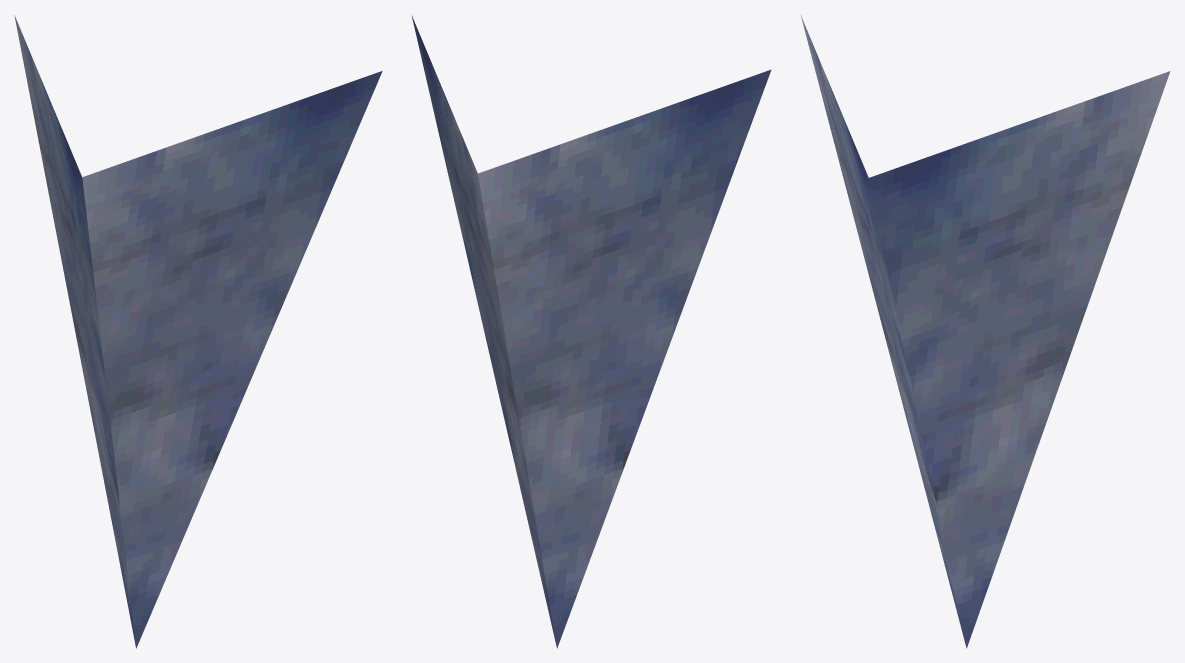
3 renders of one model, left to right at view 1: azimuth 30°, elevation 25°; view 2: azimuth 150°, elevation 25°; view 3: azimuth 270°, elevation 25°, orthographic. The views are drawn at different scales.
Parts seen in each view (by area): view 1: Object25; view 2: Object25; view 3: Object25.
Boxes of the visible parts, bbox=[...] form: Object25: bbox=[14, 15, 382, 648]; Object25: bbox=[411, 15, 771, 648]; Object25: bbox=[800, 15, 1170, 648].
Size of the model in its own units: 1098 by 1774 by 1048.
1 material, 1 textured.
